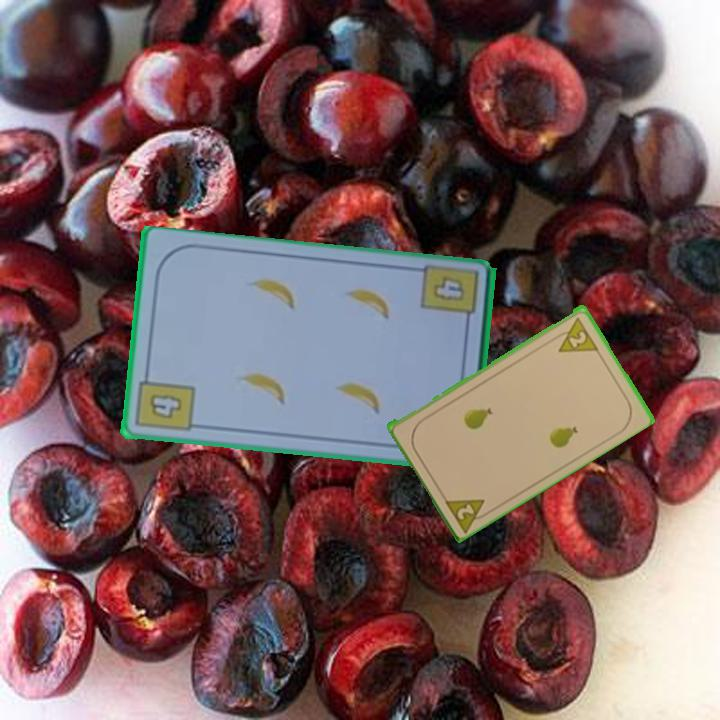2p: (440, 494, 495, 534), (549, 313, 601, 355)
4b: (132, 367, 198, 436), (428, 273, 468, 305)
